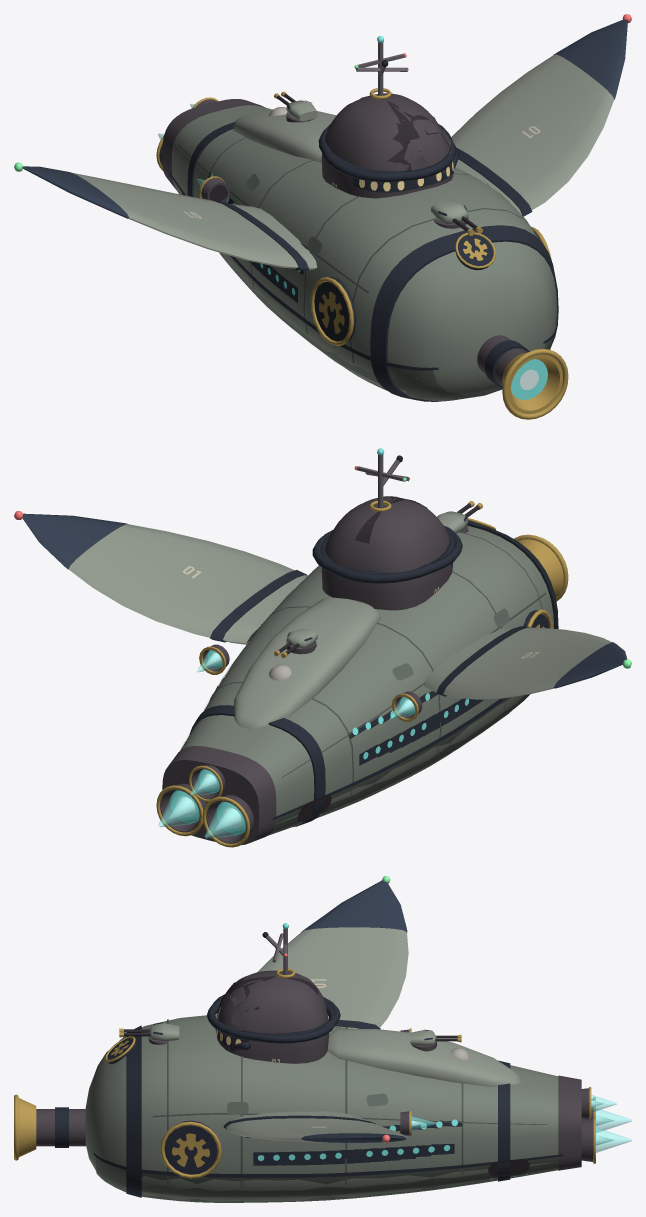
The model's file is elfinia_flagship.glb.
The picture shows the model from 3 angles, top to bottom: view 1: azimuth 30°, elevation 25°; view 2: azimuth 150°, elevation 25°; view 3: azimuth 270°, elevation 25°; orthographic projection. The views are drawn at different scales.
Parts seen in each view (by area): view 1: elfinia_flagship_body, bridge_body, elfinia_flagship_fine, bridge_damaged_body, elfinia_flagship_glow, bridge_fine, bridge_damaged_fine; view 2: elfinia_flagship_body, bridge_body, elfinia_flagship_fine, bridge_damaged_body, elfinia_flagship_plume, elfinia_flagship_glow; view 3: elfinia_flagship_body, elfinia_flagship_fine, bridge_body, bridge_damaged_body, elfinia_flagship_plume, elfinia_flagship_glow.
Part boxes in pixels (x1,y1,x2,y2): elfinia_flagship_body: (22, 19, 627, 419); bridge_body: (318, 42, 456, 198); elfinia_flagship_fine: (169, 100, 557, 401); bridge_damaged_body: (321, 65, 458, 198); elfinia_flagship_glow: (14, 14, 631, 399); bridge_fine: (332, 94, 452, 192); bridge_damaged_fine: (381, 60, 453, 187); elfinia_flagship_body: (22, 501, 627, 847); bridge_body: (320, 454, 454, 610); elfinia_flagship_fine: (181, 516, 545, 835); bridge_damaged_body: (312, 459, 462, 610); elfinia_flagship_plume: (158, 650, 415, 838); elfinia_flagship_glow: (14, 511, 631, 834); elfinia_flagship_body: (14, 880, 595, 1201); elfinia_flagship_fine: (93, 979, 563, 1202); bridge_body: (207, 928, 340, 1063); bridge_damaged_body: (212, 933, 336, 1063); elfinia_flagship_plume: (411, 1095, 631, 1152); elfinia_flagship_glow: (253, 876, 614, 1179).
Bounding box in the file's own units: 80.1 × 38.78 × 79.79.
